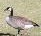goose: (1, 4, 39, 36)
